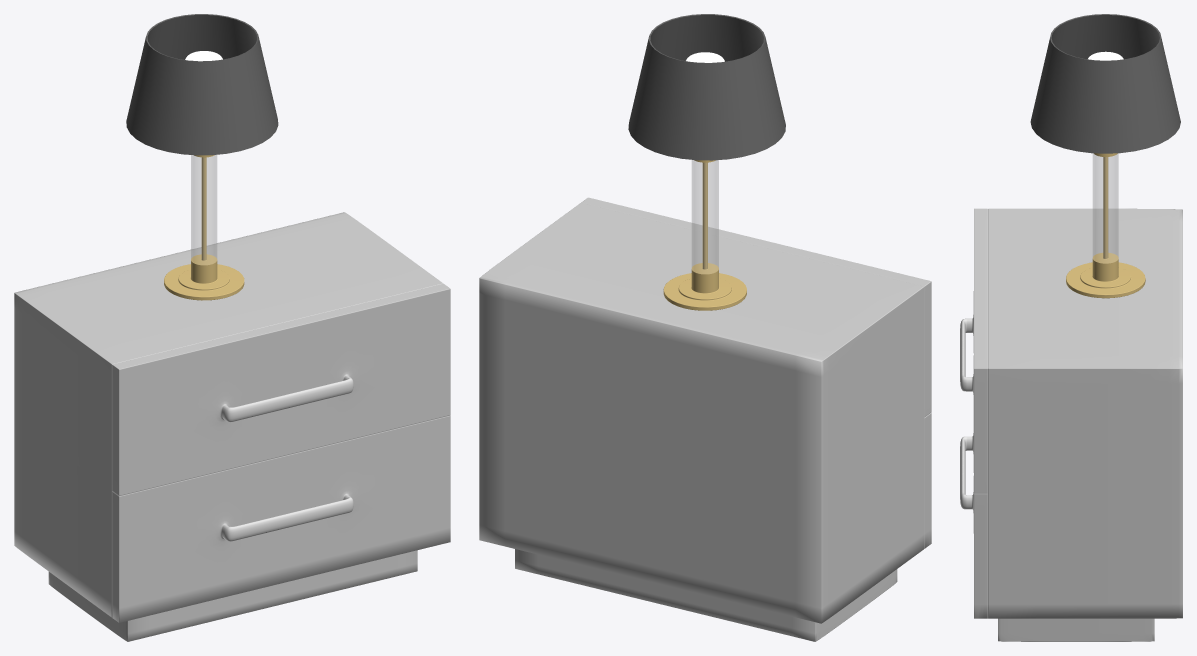
File: table5.glb
3 renders of one model, left to right at view 1: azimuth 30°, elevation 25°; view 2: azimuth 150°, elevation 25°; view 3: azimuth 270°, elevation 25°, orthographic. The views are drawn at different scales.
Visible parts, largest first — view 1: bedside_table, Circle001, Circle; view 2: bedside_table, Circle001, Circle; view 3: bedside_table, Circle001, Circle.
Part boxes in pixels (<box>): bedside_table: <box>14,212,450,641</box>; Circle001: <box>126,14,278,155</box>; Circle: <box>164,51,244,300</box>; bedside_table: <box>479,197,931,641</box>; Circle001: <box>628,14,785,160</box>; Circle: <box>663,52,746,310</box>; bedside_table: <box>960,208,1182,641</box>; Circle001: <box>1030,14,1180,153</box>; Circle: <box>1066,51,1145,298</box>.
Size of the model in its own units: 51.67 by 79.38 by 30.41.
